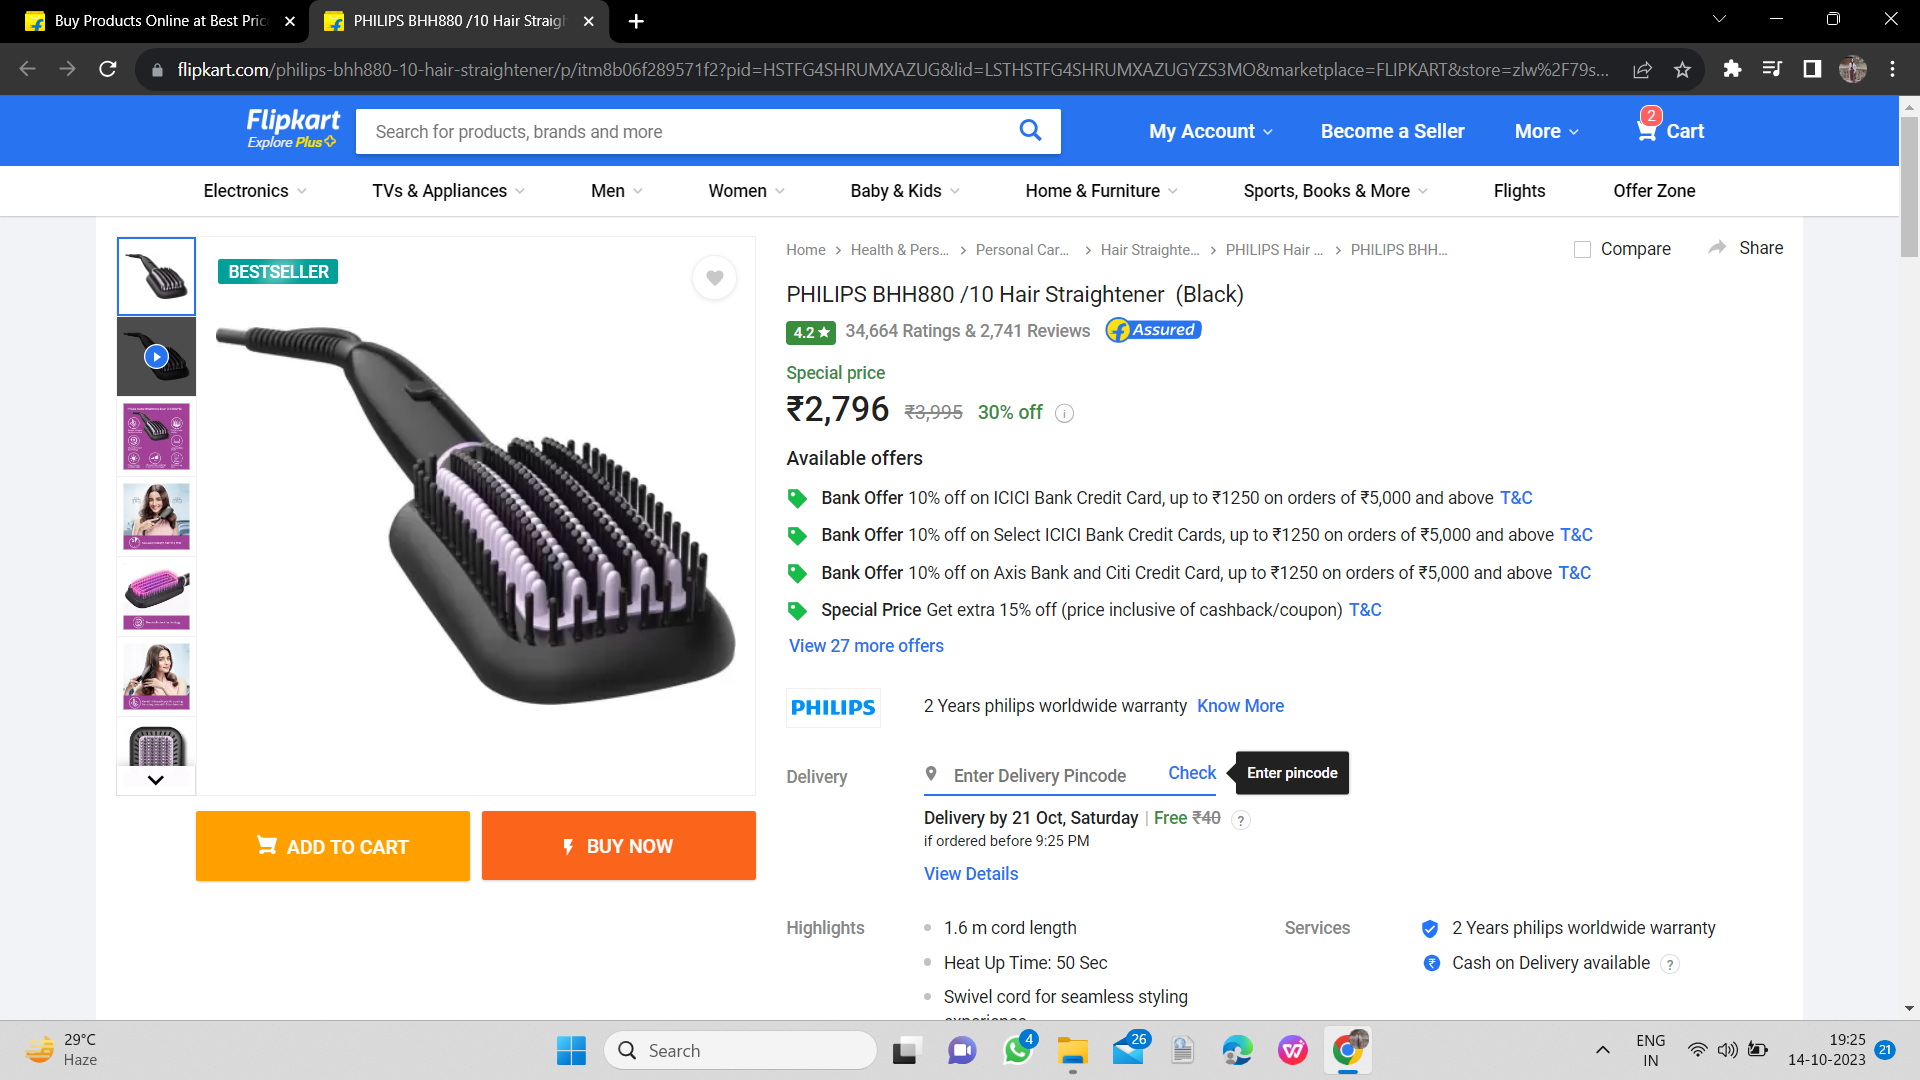Image: (200, 245, 773, 737)
Paragraph: (789, 483, 1600, 659), (160, 810, 775, 893), (1124, 96, 1720, 165), (910, 907, 1211, 1017), (1407, 903, 1730, 993), (783, 688, 1294, 731), (782, 361, 1058, 435), (890, 756, 1365, 796), (778, 310, 1226, 352), (779, 282, 1254, 310), (782, 446, 938, 480), (913, 806, 1142, 828), (782, 907, 868, 942), (1282, 903, 1358, 942), (775, 765, 855, 793)
